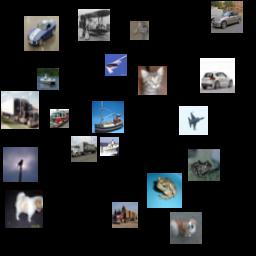airplane: (78, 9, 110, 41), (179, 106, 208, 135), (105, 54, 127, 76)
automobile: (24, 16, 59, 51), (200, 58, 235, 93), (211, 1, 243, 33)
bird: (3, 147, 38, 182), (130, 21, 149, 40)
cat: (138, 66, 167, 95)
dog: (5, 190, 43, 228), (170, 212, 202, 244)
frog: (147, 173, 182, 208), (188, 149, 220, 181)
ship: (92, 101, 124, 133), (37, 68, 59, 90), (100, 137, 119, 156)
truck: (1, 91, 39, 129), (112, 202, 138, 228), (71, 136, 97, 162), (50, 109, 69, 128)
